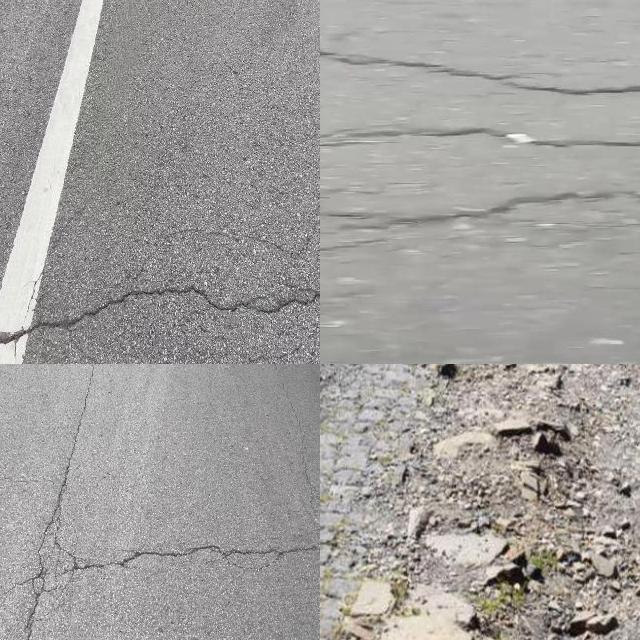Melintang: (0, 271, 320, 353), (320, 36, 640, 106), (320, 180, 640, 237), (30, 532, 320, 590), (320, 116, 640, 158)
Memanjang: (10, 364, 112, 640)
Pinggir: (320, 364, 461, 640)
